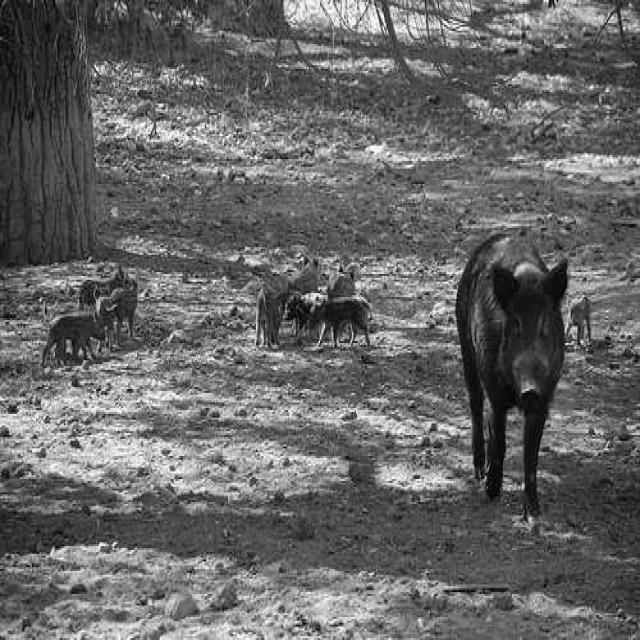boar: (454, 234, 564, 512), (41, 309, 104, 367), (308, 295, 369, 348), (111, 278, 137, 344), (256, 286, 283, 346), (96, 266, 137, 297), (288, 257, 319, 294), (287, 293, 310, 336), (328, 272, 355, 298), (79, 280, 96, 308)
